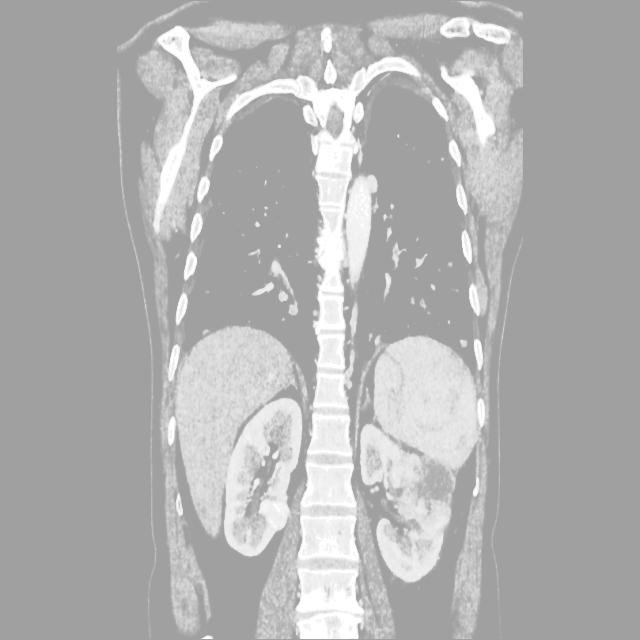TUMOR: (142, 336, 565, 615)
